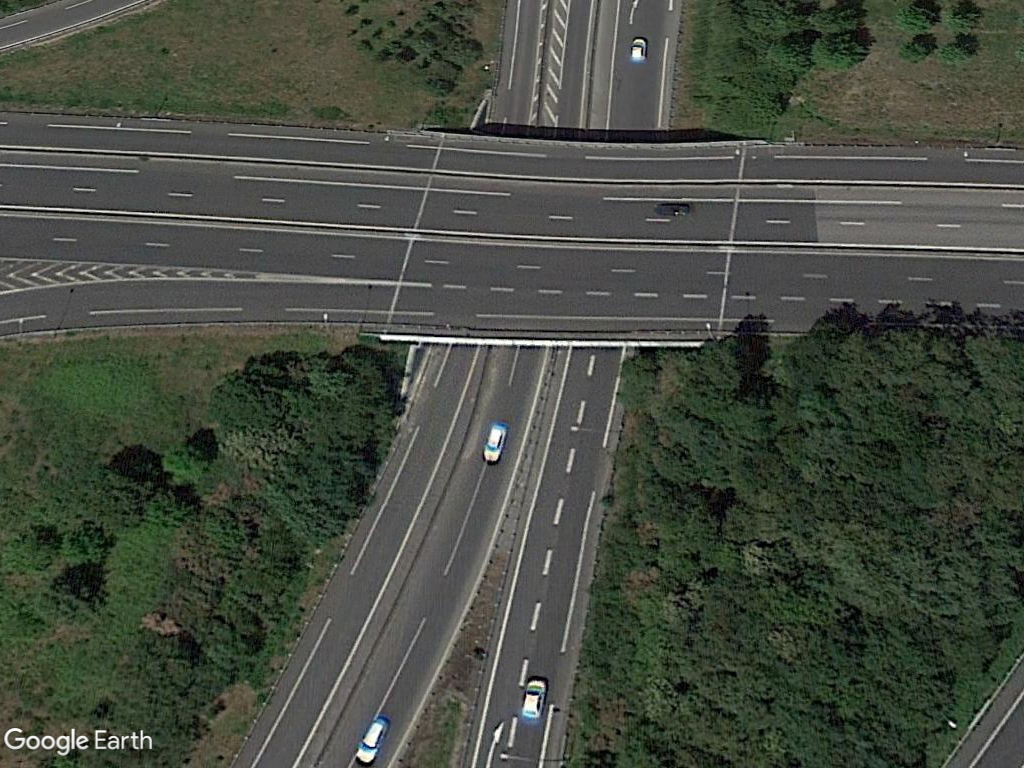car: (353, 715, 391, 766), (519, 673, 549, 725), (482, 420, 510, 468)
